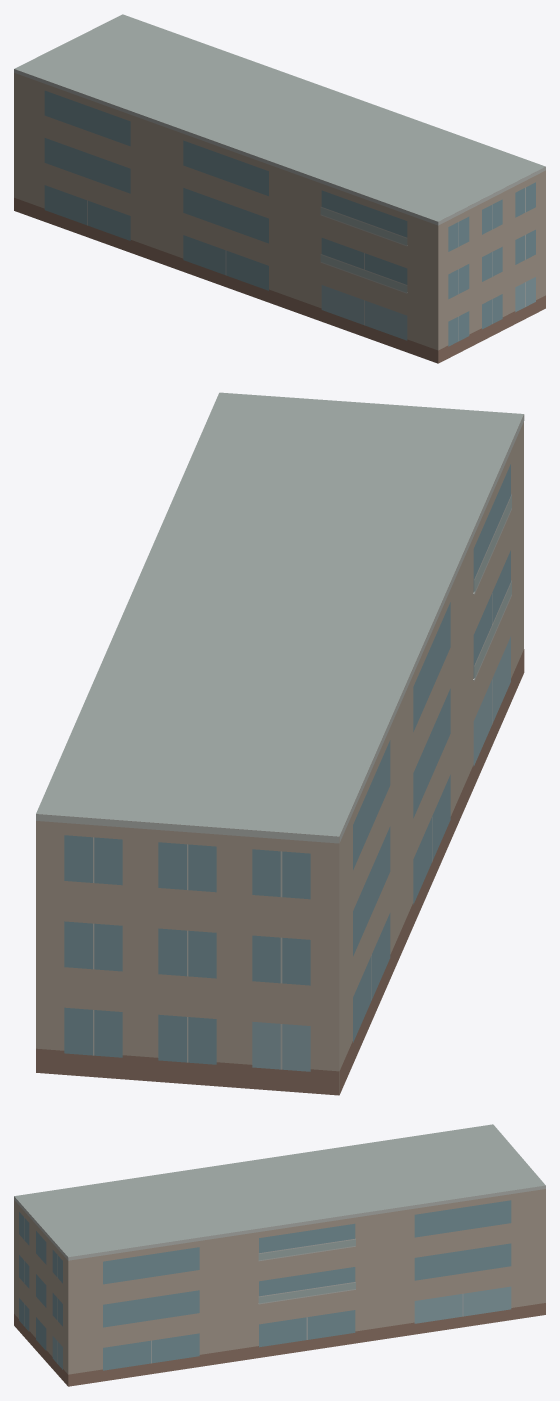
File: survey-upis-32523053.glb
3 views of the same model, one above another, from view 1: azimuth 30°, elevation 25°; view 2: azimuth 150°, elevation 25°; view 3: azimuth 270°, elevation 25° (orthographic). The views are drawn at different scales.
Visible parts, largest first — view 1: survey-upis-32523053.tmp; view 2: survey-upis-32523053.tmp; view 3: survey-upis-32523053.tmp.
Boxes of the visible parts, x1,y1,x2,y2 form: survey-upis-32523053.tmp: [14, 14, 545, 363]; survey-upis-32523053.tmp: [36, 392, 524, 1095]; survey-upis-32523053.tmp: [14, 1124, 545, 1386].
Bounding box in the file's own units: 20.18 × 9.15 × 34.09.
